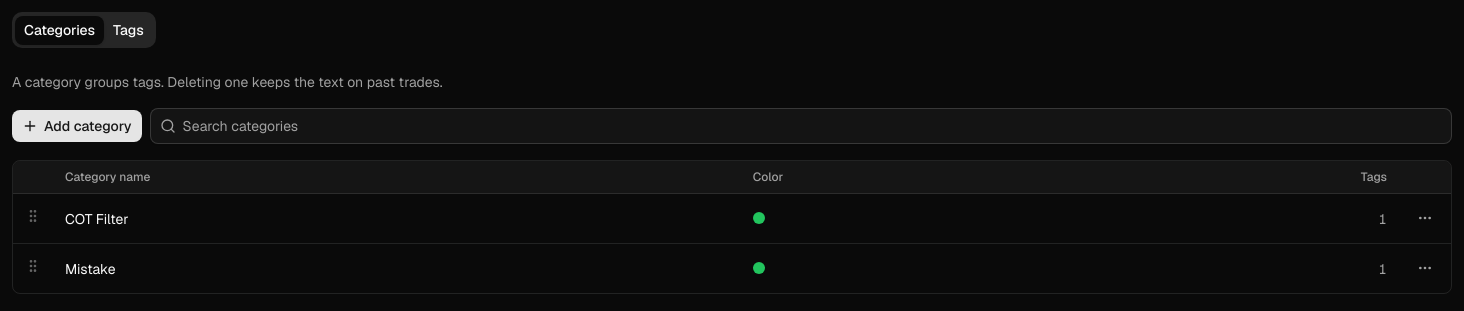
the two tabs › puts tags in their own table, with the category they are filed under
The width and height of the screenshot is (1464, 311).
Click the tab "Tags". click: click(128, 30)
box: x1=104 y1=16 x2=153 y2=44
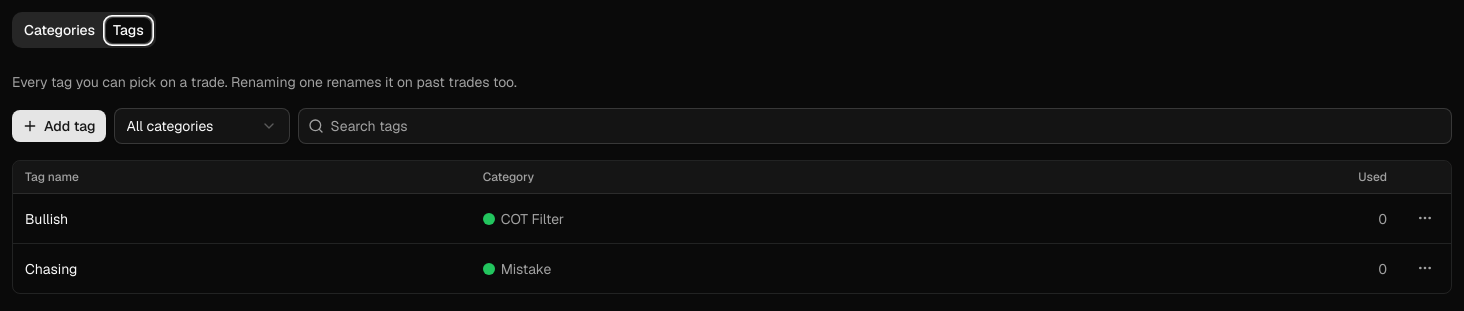
Expected: the text "COT Filter" is shown, x1=483 y1=210 x2=564 y2=228
Expected: the text "Bullish" is shown, x1=25 y1=210 x2=68 y2=228
Expected: the text "Chasing" is shown, x1=25 y1=260 x2=77 y2=278
